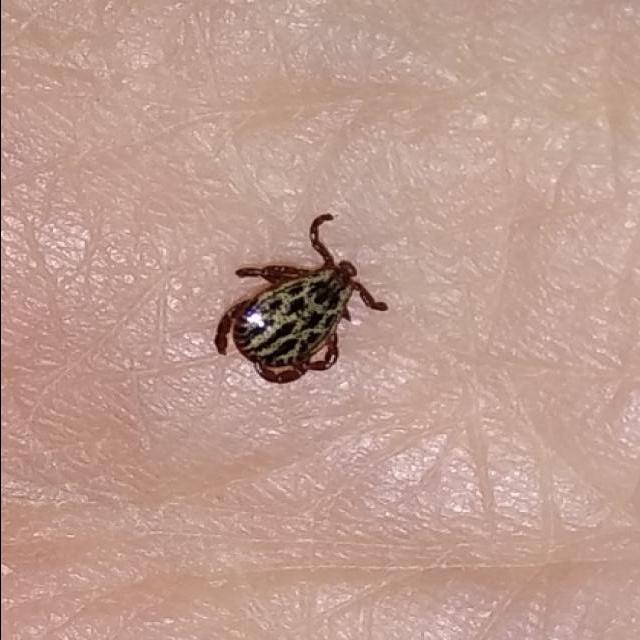Dermacentor Reticulatus-M: (214, 214, 388, 385)
